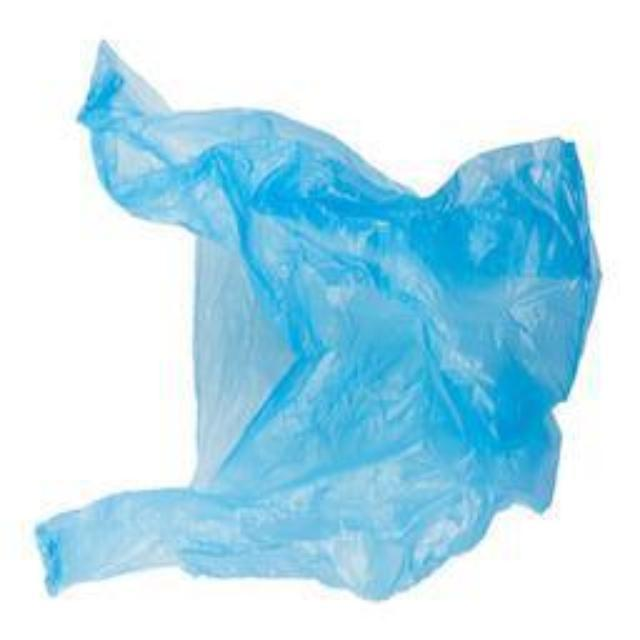Bolsa-de-nilon: (23, 62, 600, 608)
